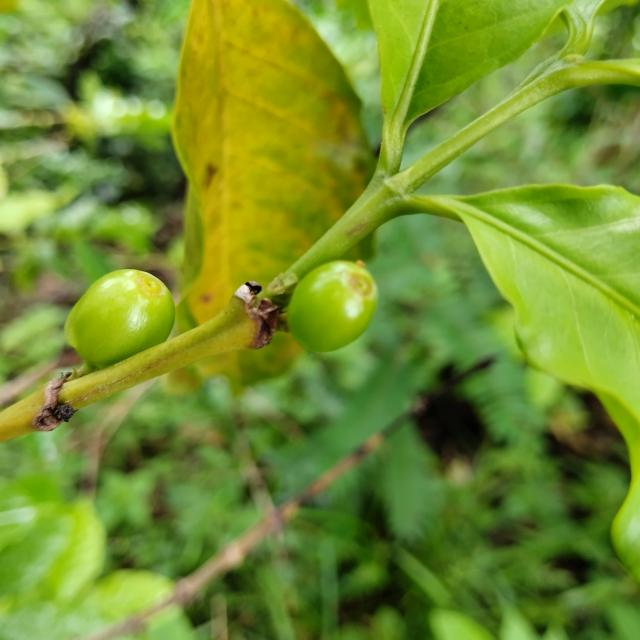green: (64, 269, 175, 369), (288, 260, 378, 352)
